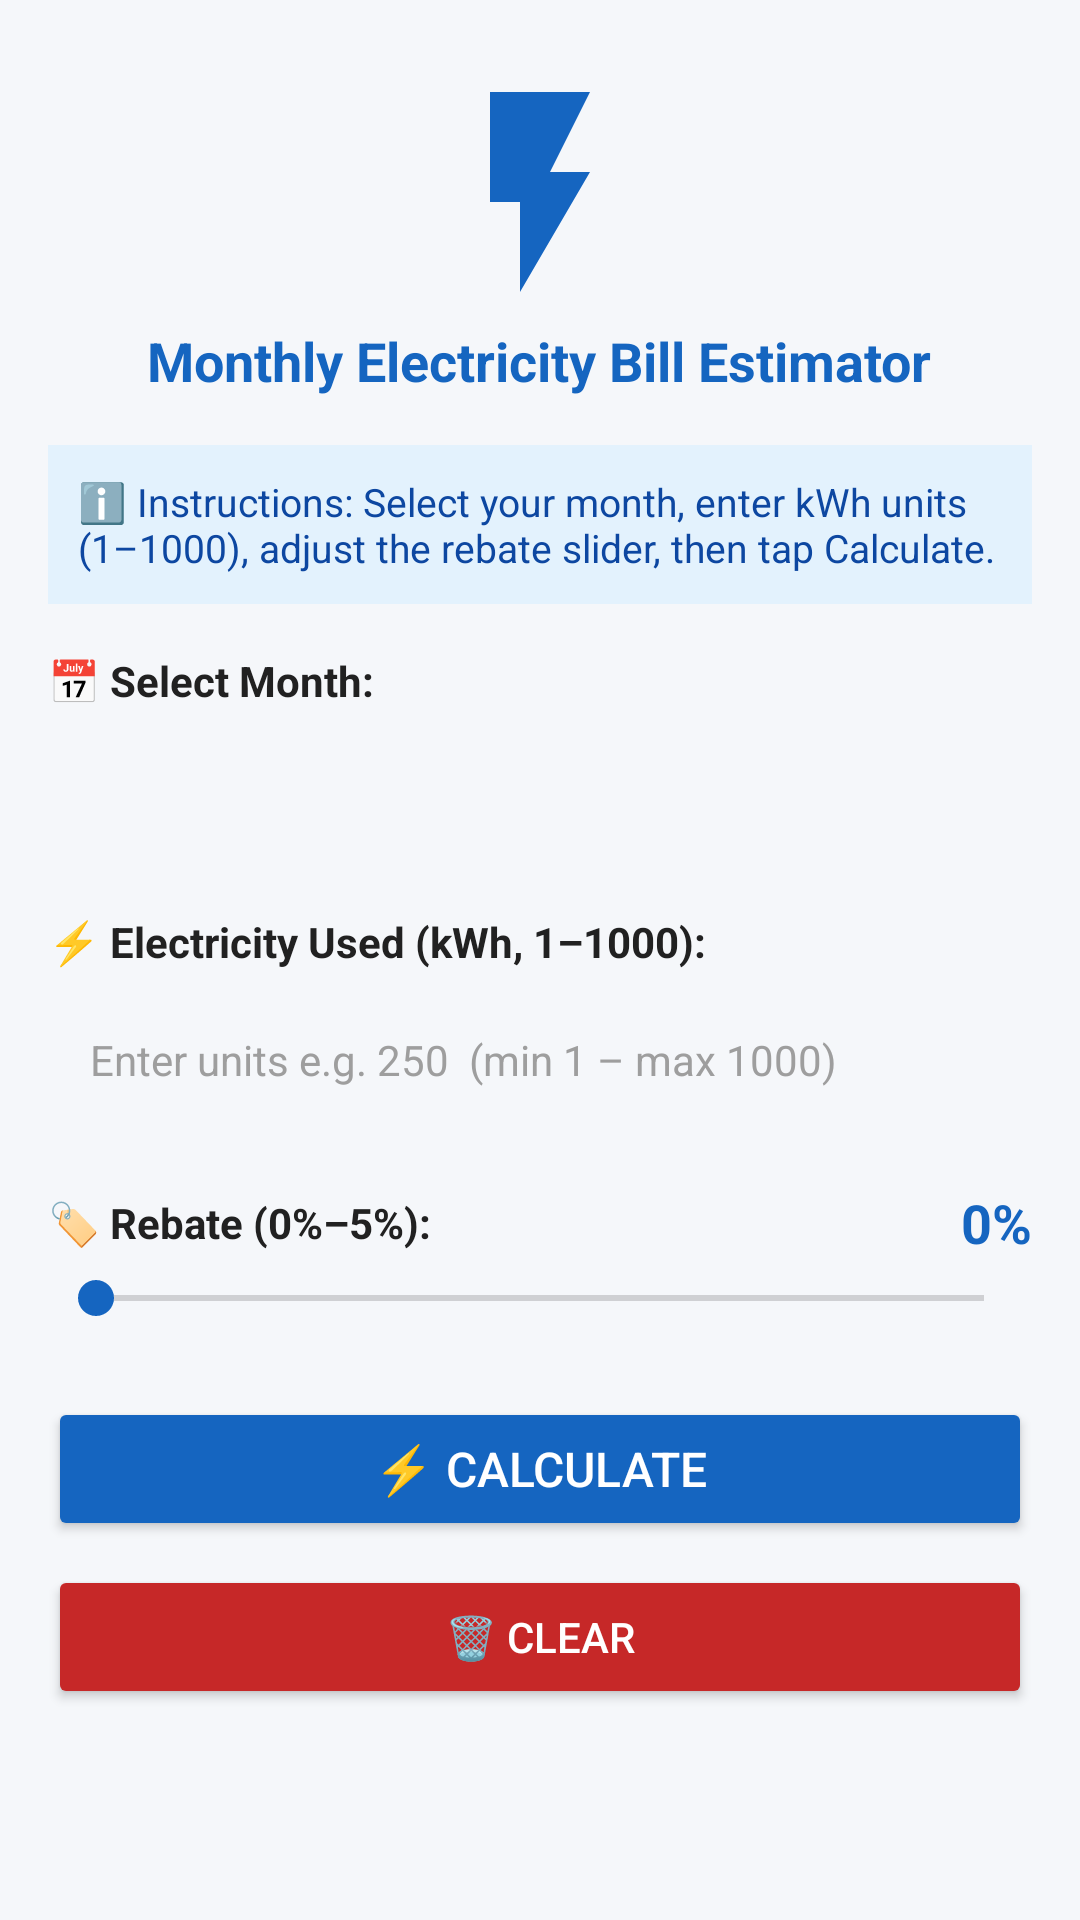

Where to tap for icons on this 1080px×1920px app screen, as point (x, y):
Electric bolt icon: point (540, 192)
